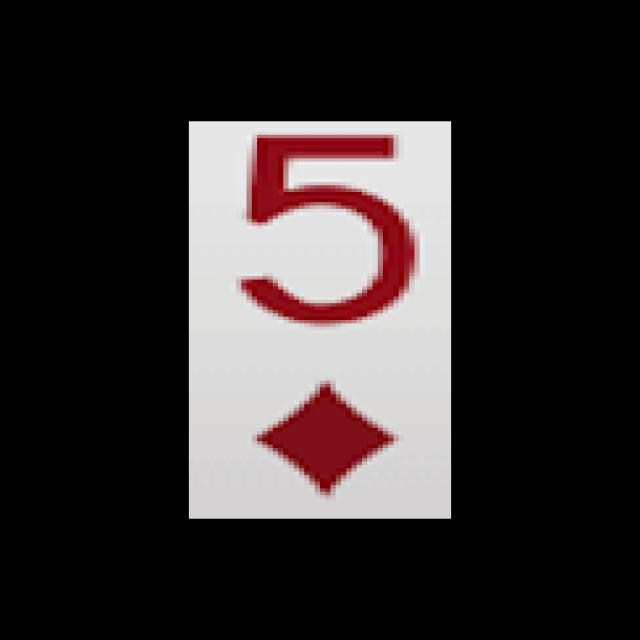5D: (212, 127, 435, 507)
